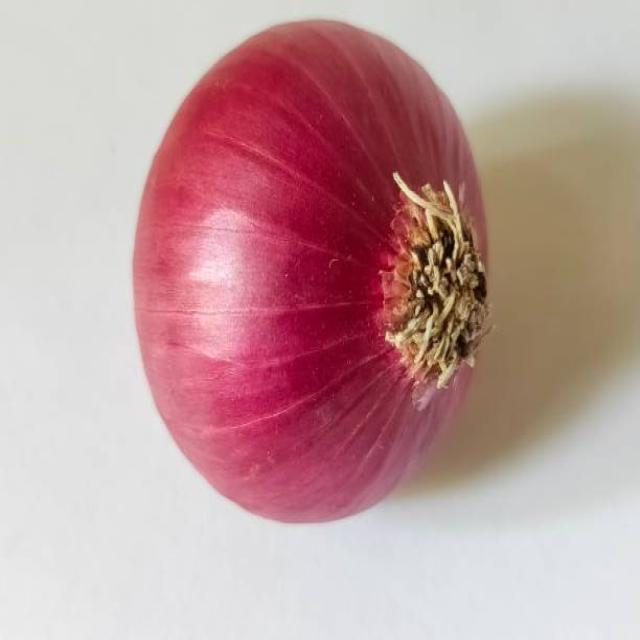onion: (126, 12, 494, 537)
